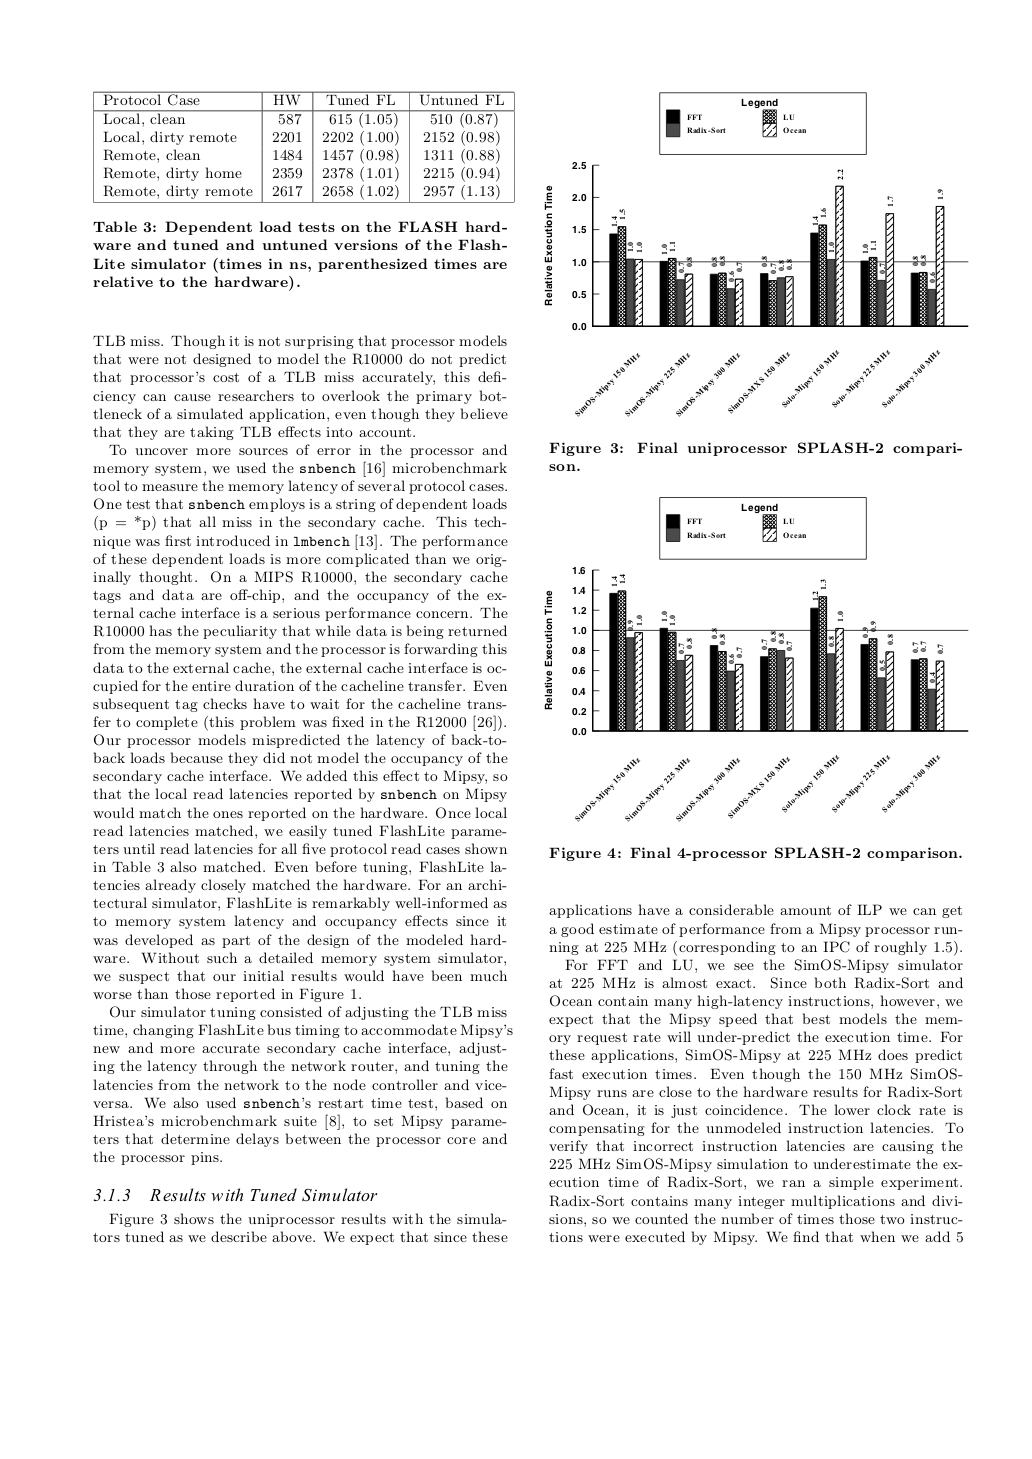Table: (93, 90, 514, 203)
figure: (544, 92, 968, 416), (544, 497, 968, 820)
